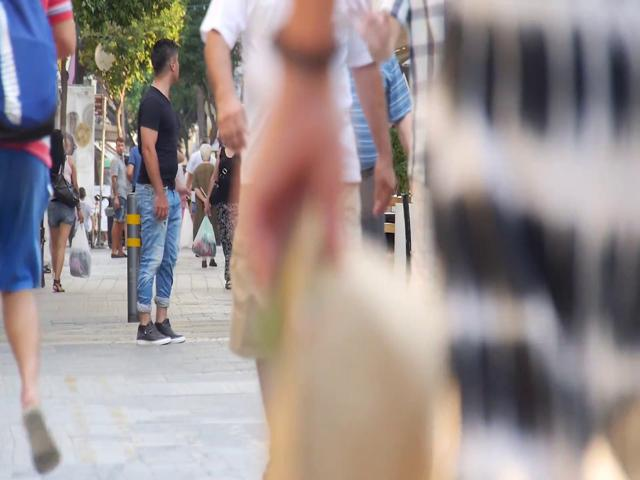shoe: (20, 408, 60, 473), (136, 321, 171, 345)
